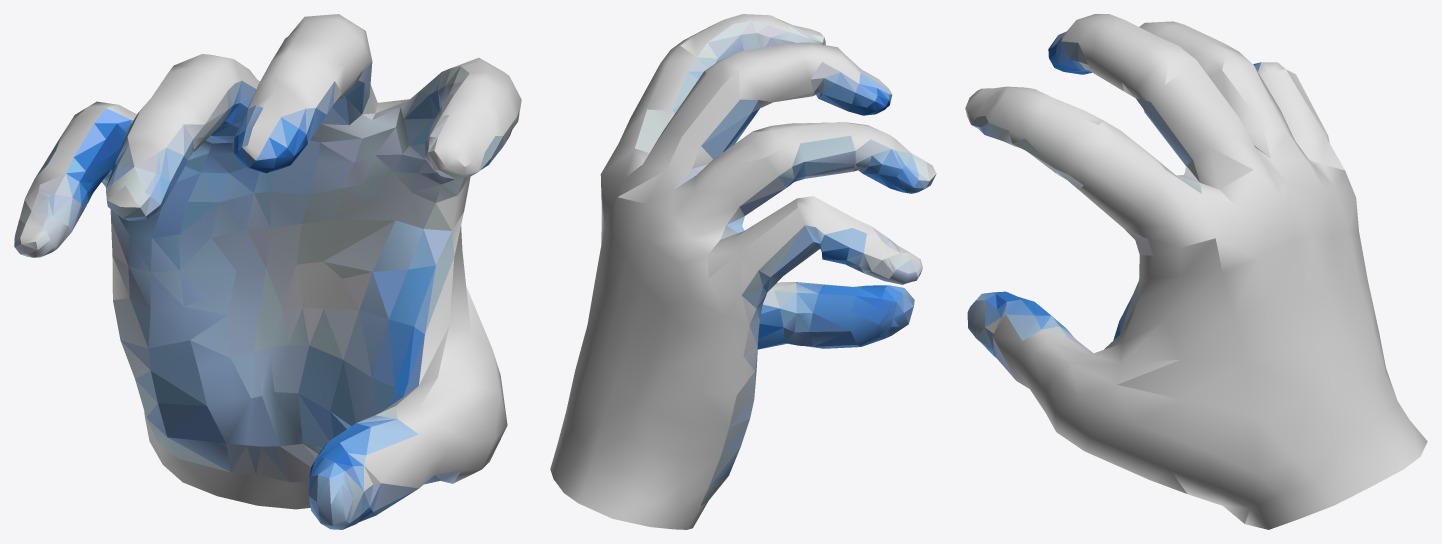
File: raw_contact.glb
3 views of the same model, side by side, from view 1: azimuth 30°, elevation 25°; view 2: azimuth 150°, elevation 25°; view 3: azimuth 270°, elevation 25° (orthographic). The views are drawn at different scales.
Parts seen in each view (by area): view 1: mesh0; view 2: mesh0; view 3: mesh0.
Boxes of the visible parts, x1=… form: mesh0: x1=14, y1=14, x2=521, y2=529; mesh0: x1=550, y1=14, x2=936, y2=529; mesh0: x1=965, y1=14, x2=1427, y2=529.
Bounding box in the file's own units: 0.1192 × 0.1436 × 0.1334.
